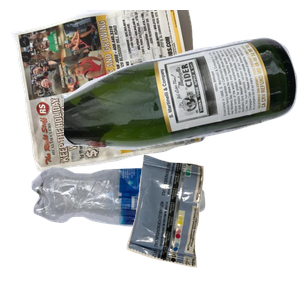glass: (64, 35, 300, 181)
paper: (10, 10, 210, 175)
plastic: (29, 165, 227, 300)
trash: (124, 152, 300, 300)
